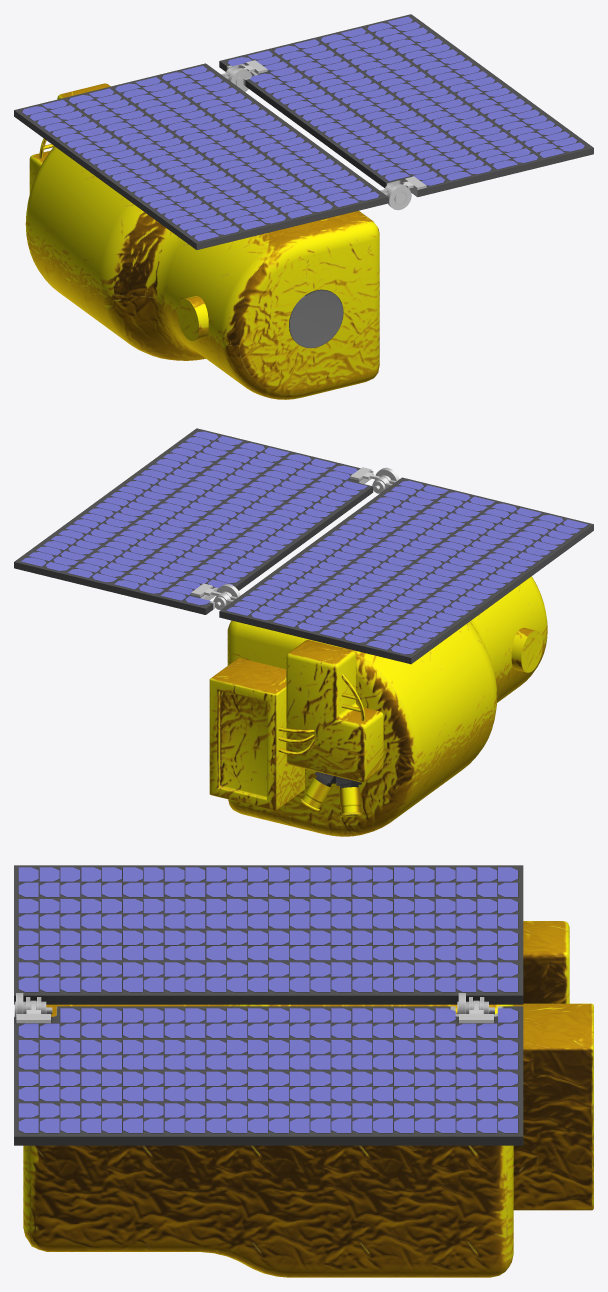
File: 0.75mlow.glb
3 renders of one model, top to bottom at view 1: azimuth 30°, elevation 25°; view 2: azimuth 150°, elevation 25°; view 3: azimuth 270°, elevation 25°, orthographic. The views are drawn at different scales.
Visible parts, largest first — view 1: Cylinder.049, Plane.002, Plane.003, Cube.074, Cube.079, Cylinder.052, Cylinder.053, Cylinder.050; view 2: Plane.002, Cylinder.049, Plane.003, Cube.074, Cube.079, Cylinder.061, Cylinder.050, Cylinder.062, Cylinder.053; view 3: Cylinder.049, Plane.002, Plane.003, Cube.079, Cube.074, Cylinder.061, Cylinder.050.
Boxes of the visible parts, left/top/right/bottom form: Cylinder.049: left=25, top=146, right=379, bottom=399; Plane.002: left=22, top=65, right=379, bottom=241; Plane.003: left=228, top=16, right=584, bottom=185; Cube.074: left=14, top=63, right=388, bottom=249; Cube.079: left=219, top=14, right=593, bottom=197; Cylinder.052: left=289, top=289, right=343, bottom=348; Cylinder.053: left=177, top=296, right=208, bottom=340; Cylinder.050: left=29, top=83, right=110, bottom=193; Plane.002: left=226, top=480, right=587, bottom=654; Cylinder.049: left=227, top=576, right=547, bottom=836; Plane.003: left=21, top=431, right=367, bottom=605; Cube.074: left=219, top=477, right=593, bottom=664; Cube.079: left=14, top=428, right=373, bottom=614; Cylinder.061: left=209, top=658, right=304, bottom=810; Cylinder.050: left=286, top=640, right=383, bottom=782; Cylinder.062: left=300, top=771, right=361, bottom=816; Cylinder.053: left=511, top=627, right=542, bottom=672; Cylinder.049: left=23, top=1004, right=513, bottom=1277; Plane.002: left=18, top=867, right=517, bottom=991; Plane.003: left=18, top=1008, right=517, bottom=1132; Cube.079: left=14, top=1006, right=523, bottom=1145; Cube.074: left=14, top=865, right=523, bottom=1004; Cylinder.061: left=513, top=1003, right=593, bottom=1210; Cylinder.050: left=523, top=921, right=569, bottom=1003.
Bounding box in the file's own units: 2.67 × 1.37 × 2.42.
1 material, 1 textured.
